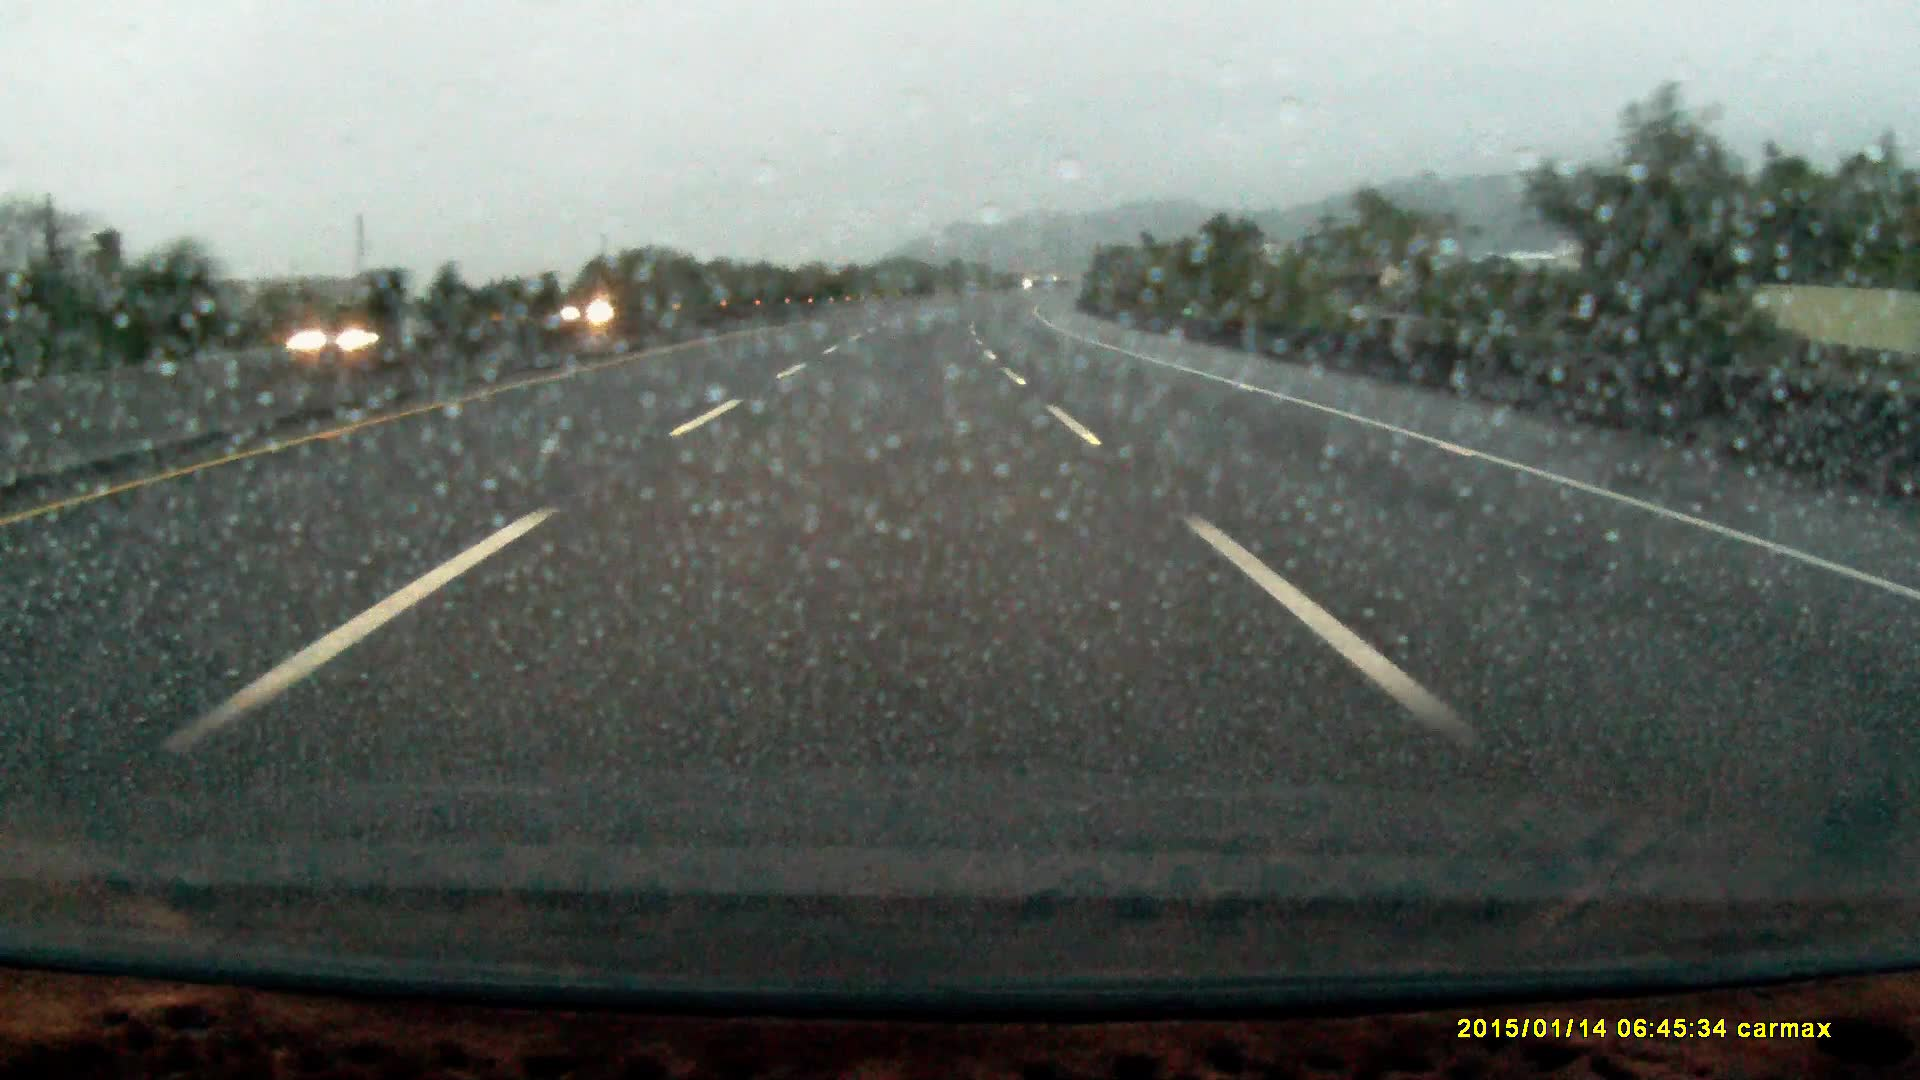vehicle: (273, 299, 454, 356), (558, 295, 637, 328)
